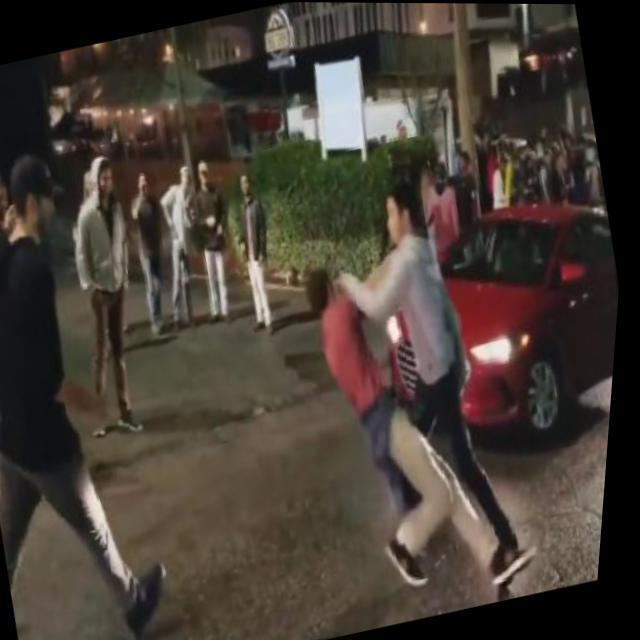fight: (264, 162, 586, 624)
